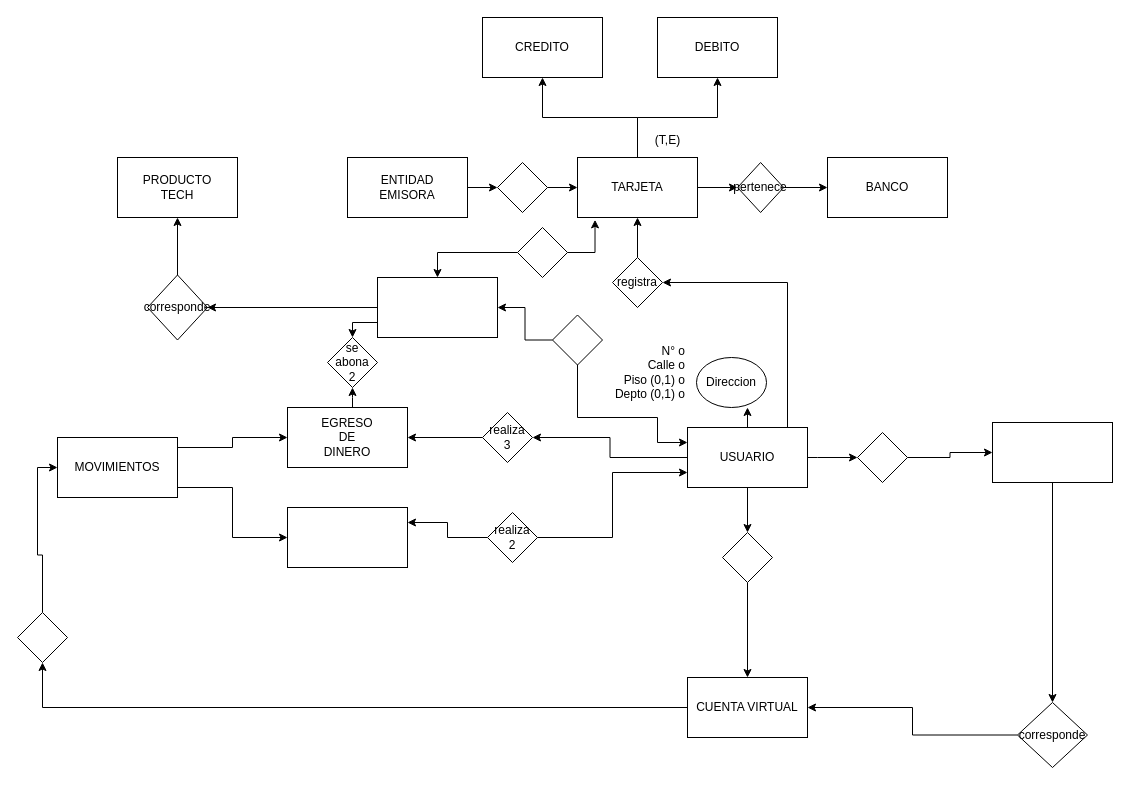
This 1130x785 diagram has some shape labels left out. Here are the shapes that lost their labels. From the top down, the centre of each, then its label:
At (x=522, y=187): "emite".
At (x=542, y=252): "se abona".
At (x=437, y=307): "COMPRA".
At (x=577, y=339): "realiza 4".
At (x=882, y=457): "realiza 1".
At (x=1052, y=452): "INVERSION".
At (x=347, y=537): "INGRESO DE DINERO".
At (x=747, y=557): "posee".
At (x=42, y=637): "tiene".
